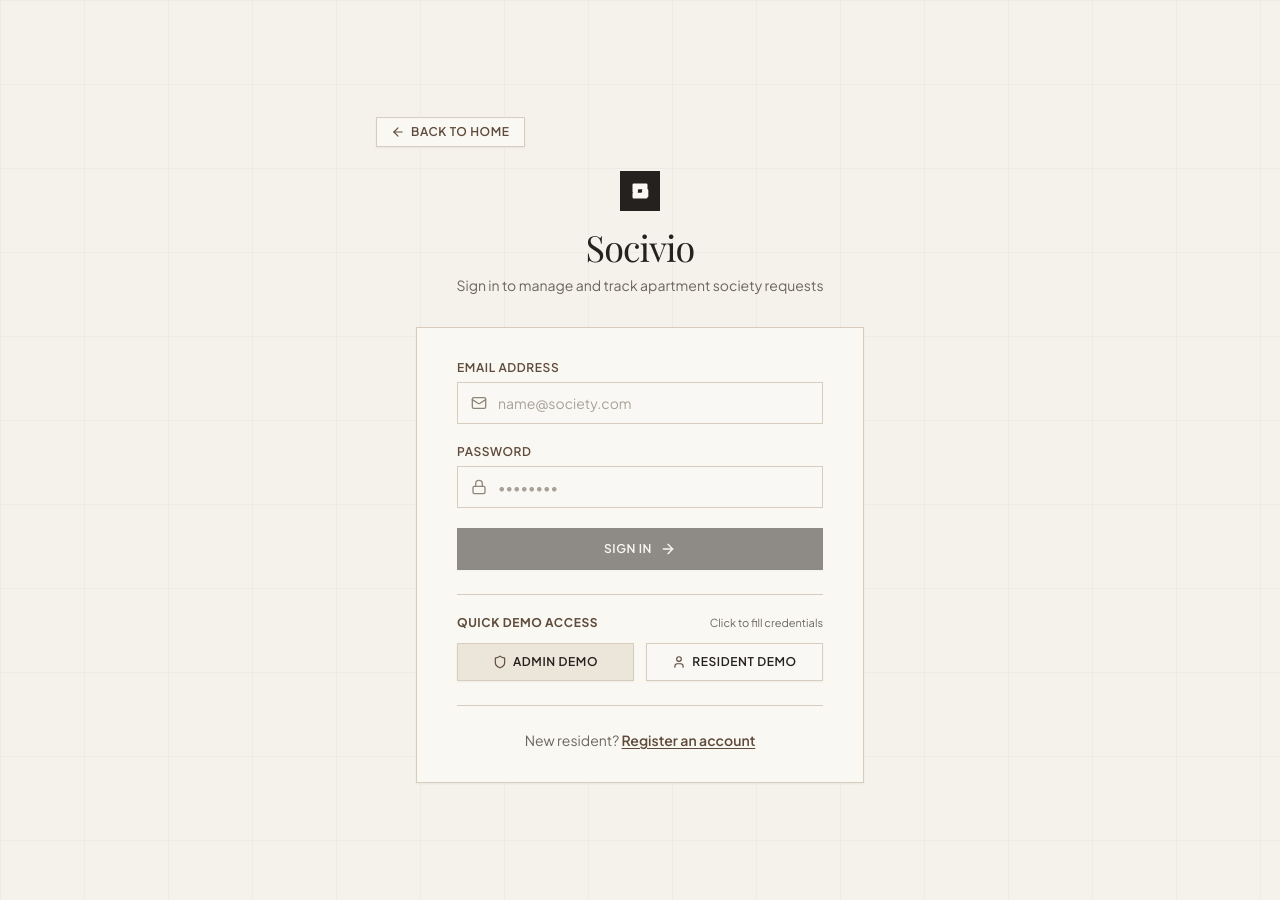
Scenario: Auth & Protected Routing › clicking Resident Demo button fills credentials into form without auto-submitting
Expected: the field labelled "Email Address" is empty, x1=457 y1=382 x2=823 y2=424
Expected: the password field labelled "Password" is empty, x1=457 y1=466 x2=823 y2=508
# Click Resident Demo button
What coordinates should you click on to do the following:
click the button "Resident Demo"
I would click on:
 (734, 662)
Its box is x1=646 y1=643 x2=823 y2=681.
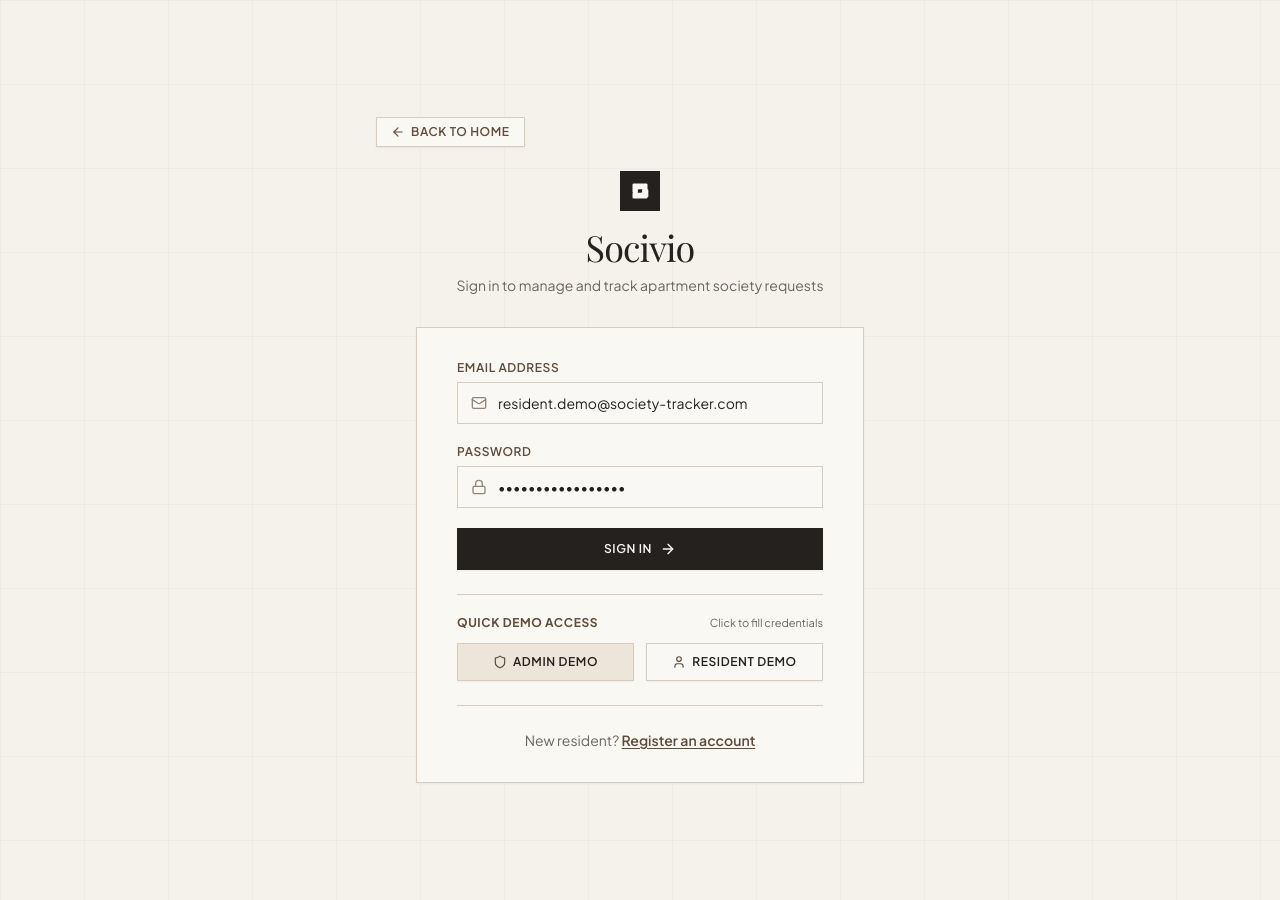
Now the field labelled "Email Address" holds "resident.demo@society-tracker.com", box x1=457 y1=382 x2=823 y2=424
Now the password field labelled "Password" holds "DemoResident@2026", box x1=457 y1=466 x2=823 y2=508
